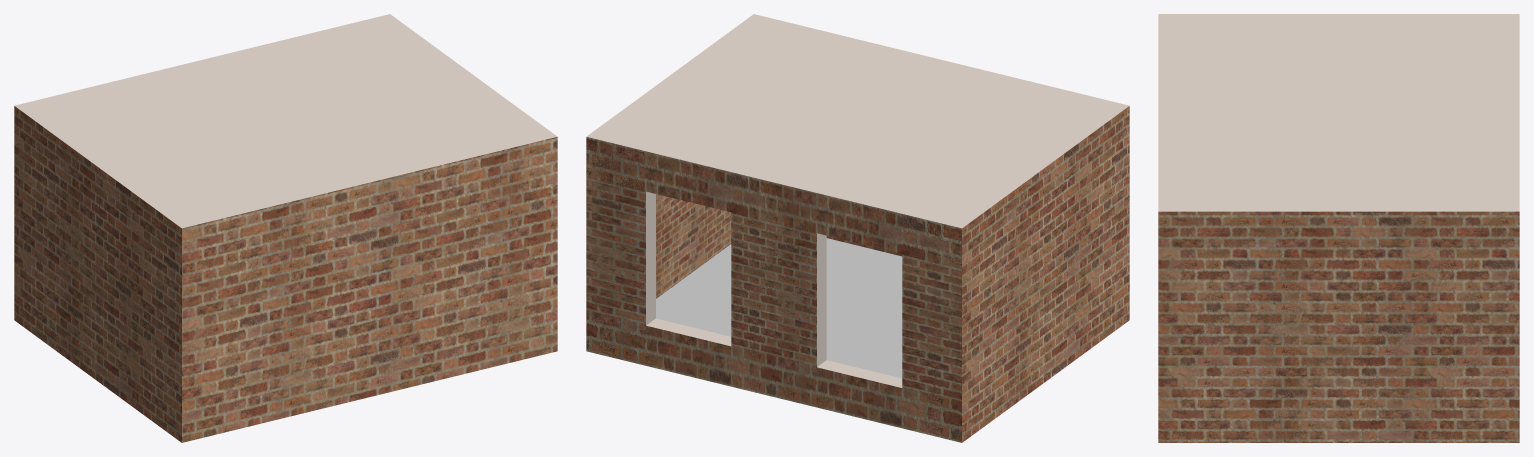
The model's file is room.gltf.
3 views of the same model, side by side, from view 1: azimuth 30°, elevation 25°; view 2: azimuth 150°, elevation 25°; view 3: azimuth 270°, elevation 25° (orthographic). The views are drawn at different scales.
Visible parts, largest first — view 1: Room; view 2: Room; view 3: Room.
Boxes of the visible parts, x1=… form: Room: x1=14, y1=14, x2=557, y2=442; Room: x1=586, y1=14, x2=1129, y2=442; Room: x1=1158, y1=14, x2=1519, y2=442.
Size of the model in its own units: 8.8 by 4.8 by 6.8.
